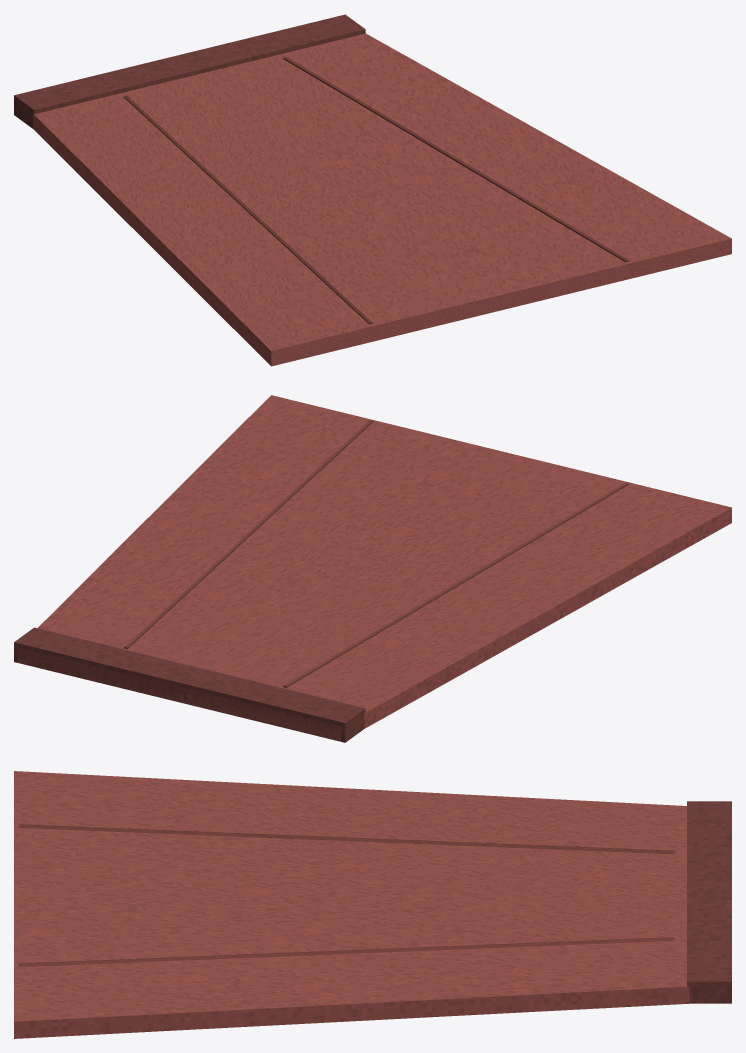
File: skirt_long.glb
The picture shows the model from 3 angles, top to bottom: view 1: azimuth 30°, elevation 25°; view 2: azimuth 150°, elevation 25°; view 3: azimuth 270°, elevation 25°; orthographic projection. The views are drawn at different scales.
Parts seen in each view (by area): view 1: block_pleated panel, block_waistband, block_pleat 1 0, block_pleat -1 0; view 2: block_pleated panel, block_waistband, block_pleat -1 0, block_pleat 1 0; view 3: block_pleated panel, block_waistband, block_pleat -1 0, block_pleat 1 0.
Boxes of the visible parts, x1,y1,x2,y2 form: block_pleated panel: (33, 33, 731, 366); block_waistband: (14, 14, 365, 128); block_pleat 1 0: (283, 56, 628, 262); block_pleat -1 0: (124, 95, 373, 324); block_pleated panel: (18, 395, 731, 741); block_waistband: (14, 627, 365, 742); block_pleat -1 0: (283, 482, 628, 687); block_pleat 1 0: (124, 419, 373, 648); block_pleated panel: (14, 771, 689, 1038); block_waistband: (687, 801, 731, 1003); block_pleat -1 0: (19, 824, 674, 854); block_pleat 1 0: (19, 937, 674, 966).
Bounding box in the file's own units: 0.342 × 0.014 × 0.414.
Materials: 1 (1 with a texture image).
